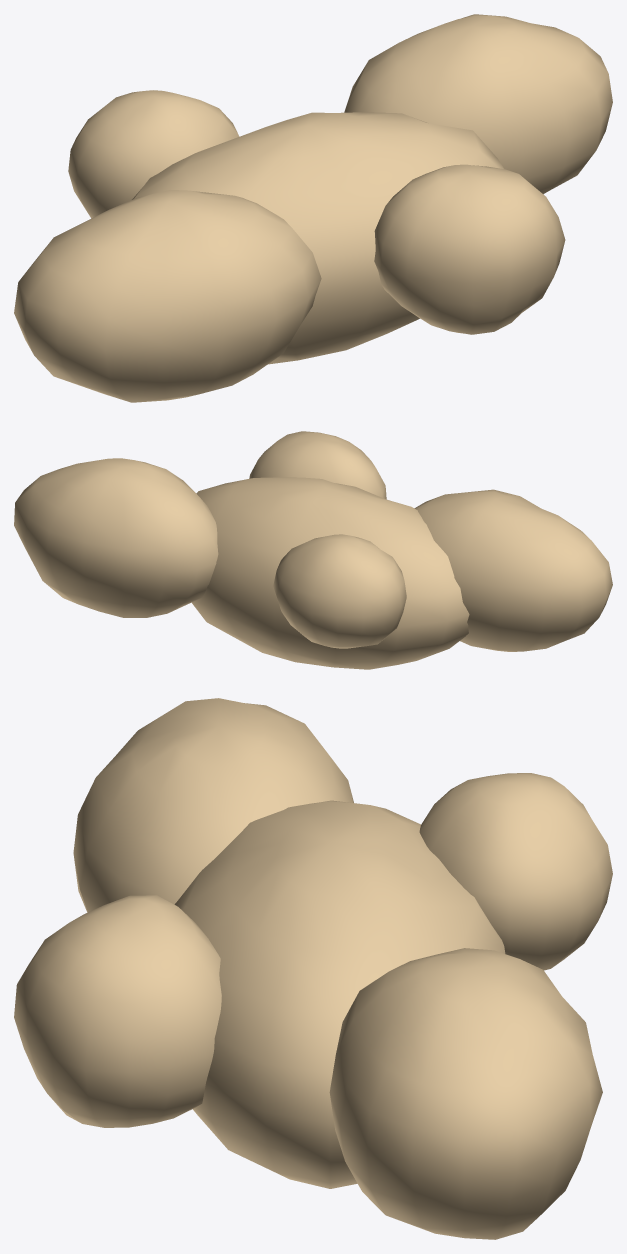
Rendered from Ginger.fbx.
3 views of the same model, one above another, from view 1: azimuth 30°, elevation 25°; view 2: azimuth 150°, elevation 25°; view 3: azimuth 270°, elevation 25° (orthographic). The views are drawn at different scales.
Visible parts, largest first — view 1: Ginger; view 2: Ginger; view 3: Ginger.
Boxes of the visible parts, x1=… form: Ginger: x1=14, y1=14, x2=612, y2=402; Ginger: x1=14, y1=431, x2=612, y2=669; Ginger: x1=14, y1=698, x2=612, y2=1239.
Size of the model in its own units: 0.0933 by 0.0305 by 0.0536.
